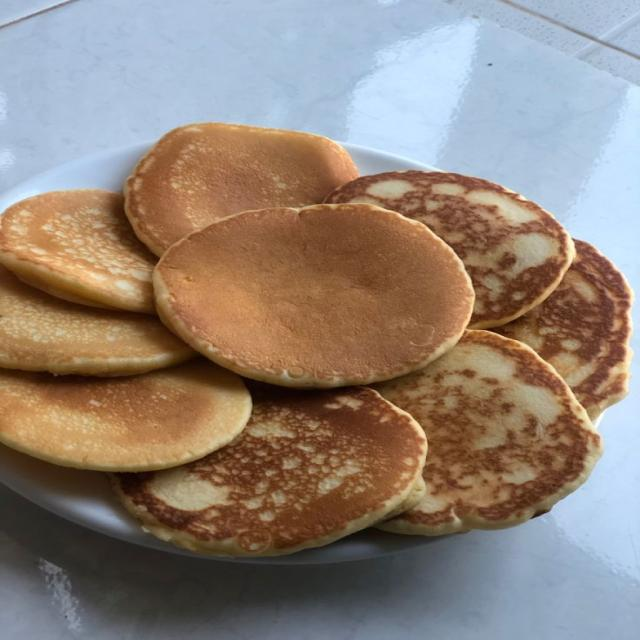pancake: (154, 205, 473, 387), (114, 388, 426, 555), (376, 331, 601, 535), (326, 171, 574, 328), (126, 123, 357, 255), (0, 359, 251, 471), (496, 240, 633, 419), (0, 267, 194, 375), (0, 190, 155, 313), (14, 273, 120, 310)
